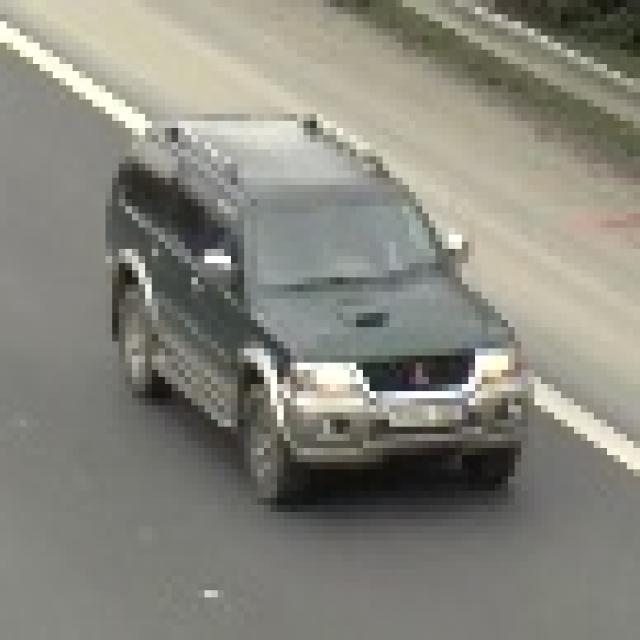SUV: (122, 128, 502, 483)
